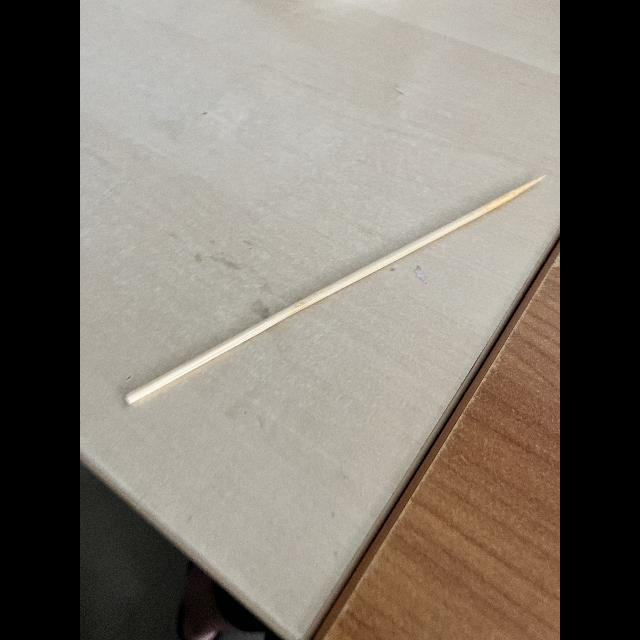stick: (121, 164, 544, 402)
